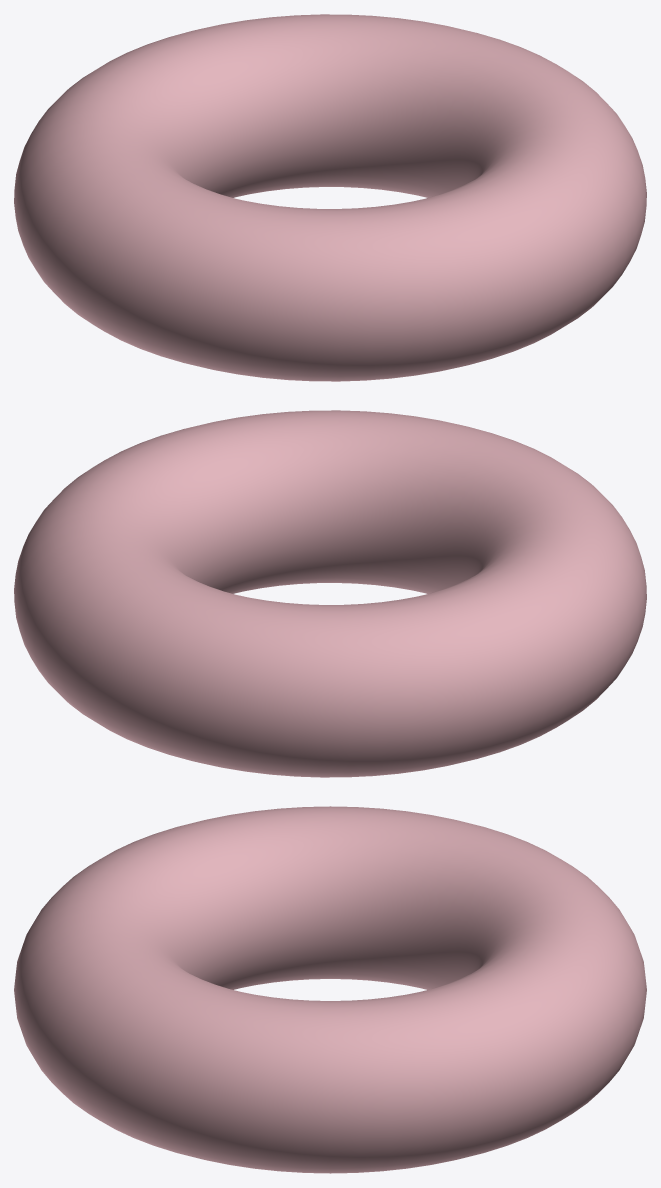
File: ring_rose_gold.glb
3 views of the same model, one above another, from view 1: azimuth 30°, elevation 25°; view 2: azimuth 150°, elevation 25°; view 3: azimuth 270°, elevation 25° (orthographic).
Size of the model in its own units: 2.2 by 0.6 by 2.2.
